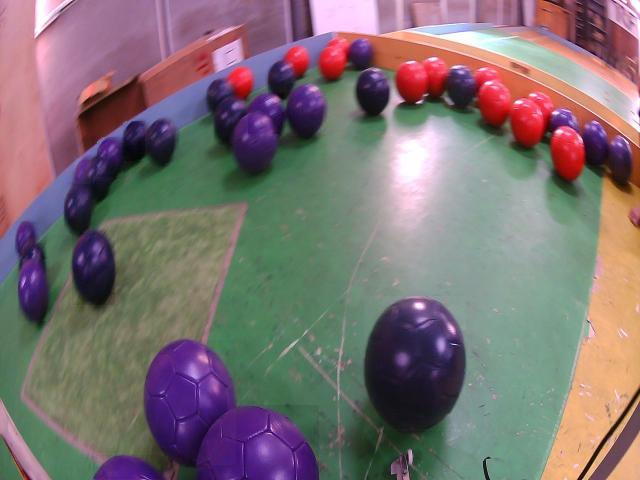jambhalya: (144, 340, 236, 465), (196, 405, 319, 480), (232, 112, 278, 173), (287, 84, 325, 138), (19, 260, 49, 321), (94, 455, 163, 479), (249, 94, 284, 134), (582, 120, 608, 165), (609, 135, 632, 184), (97, 138, 123, 177), (547, 109, 578, 133), (349, 39, 372, 68), (16, 222, 37, 253), (74, 159, 91, 184)
kaalyya: (364, 296, 466, 431), (73, 230, 115, 305), (215, 95, 248, 145), (356, 68, 389, 115), (146, 118, 177, 165), (65, 184, 93, 233), (446, 65, 477, 108), (87, 155, 112, 200), (268, 60, 297, 98), (124, 121, 148, 161), (207, 78, 233, 112), (20, 243, 46, 272)
